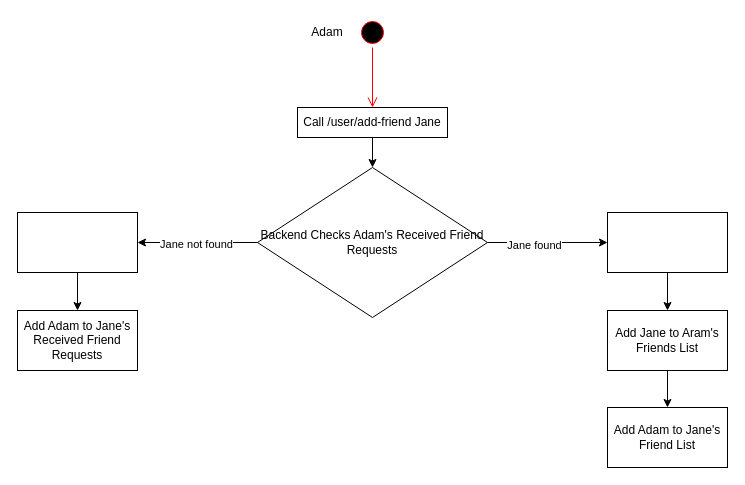
This 745x485 diagram has some shape labels left out. The shapes that lost their labels are listed below. From the top down, each one's centre as x and y in pixels, then its label:
[77,242]: Fetch Jane's User
[667,242]: Delete Adam's Received Friend Request
